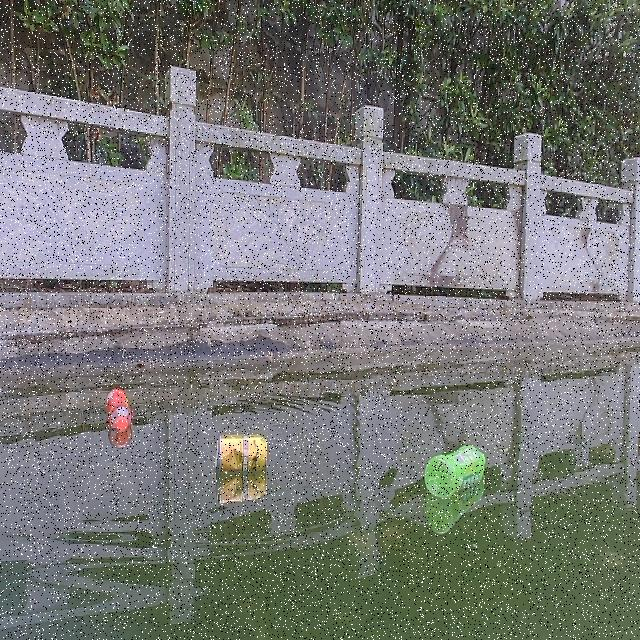Bottle: (422, 444, 486, 496), (103, 384, 130, 436)
Can: (214, 434, 267, 474)
